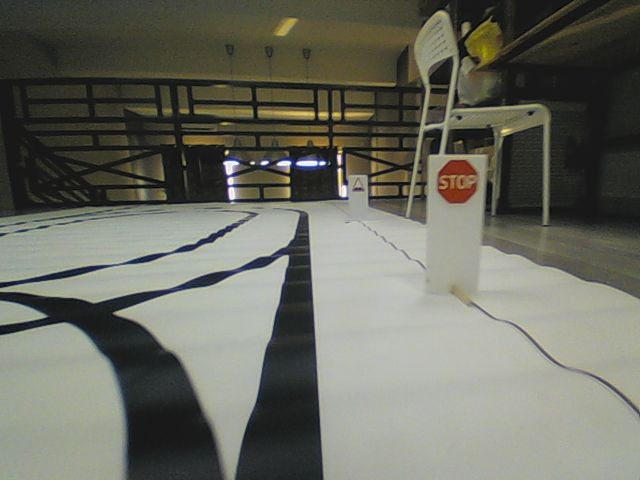Nerov: (351, 177, 365, 193)
Stop: (435, 157, 480, 206)
